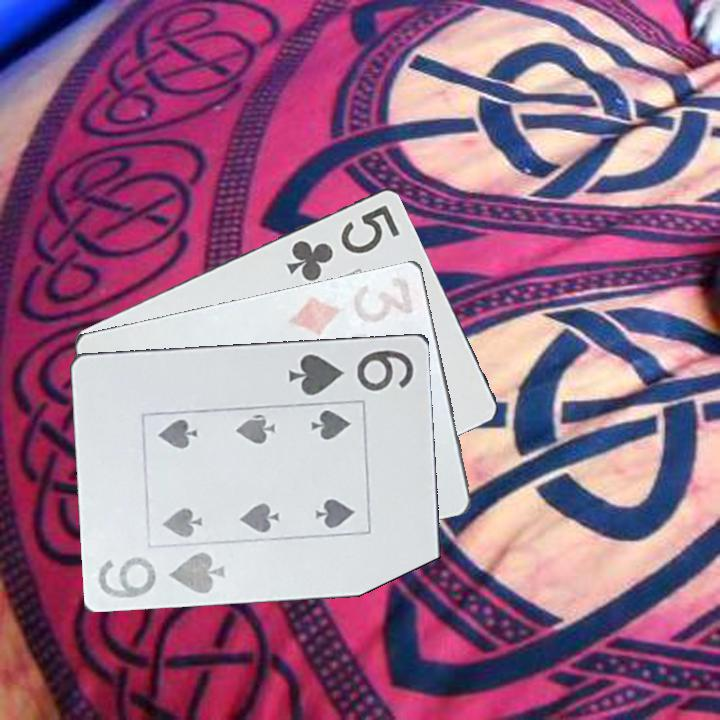3d: (285, 272, 422, 344)
5c: (283, 200, 403, 284)
6s: (95, 548, 229, 601), (285, 345, 417, 398)
